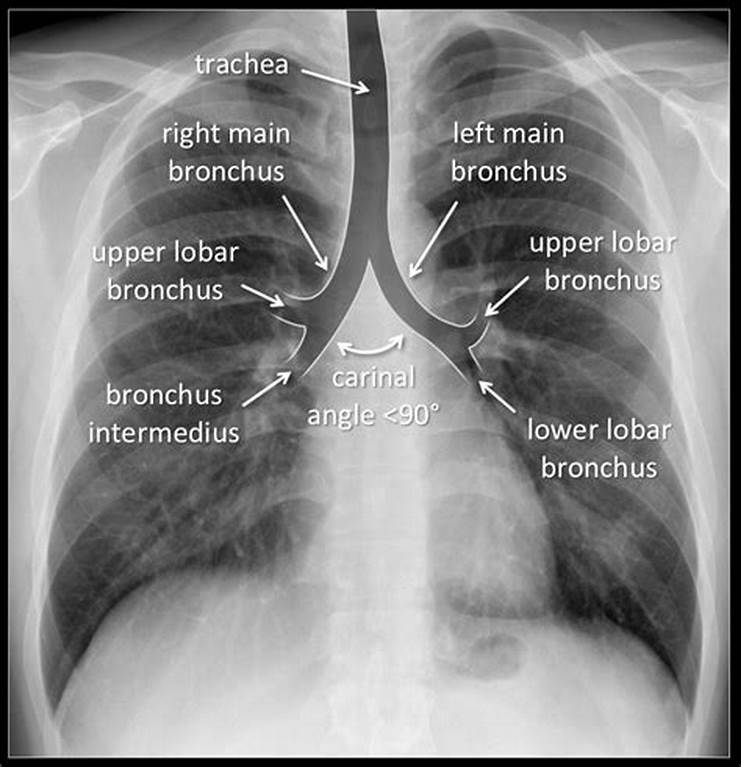telestration: (82, 382, 255, 448), (518, 224, 671, 296), (526, 416, 677, 481), (90, 240, 238, 305), (154, 120, 292, 183), (449, 117, 573, 184), (311, 369, 441, 429), (277, 186, 327, 272), (412, 199, 455, 282), (190, 53, 297, 75), (484, 272, 532, 317), (335, 332, 406, 357), (247, 364, 292, 402), (299, 68, 366, 93), (477, 379, 519, 416), (237, 282, 281, 308)
